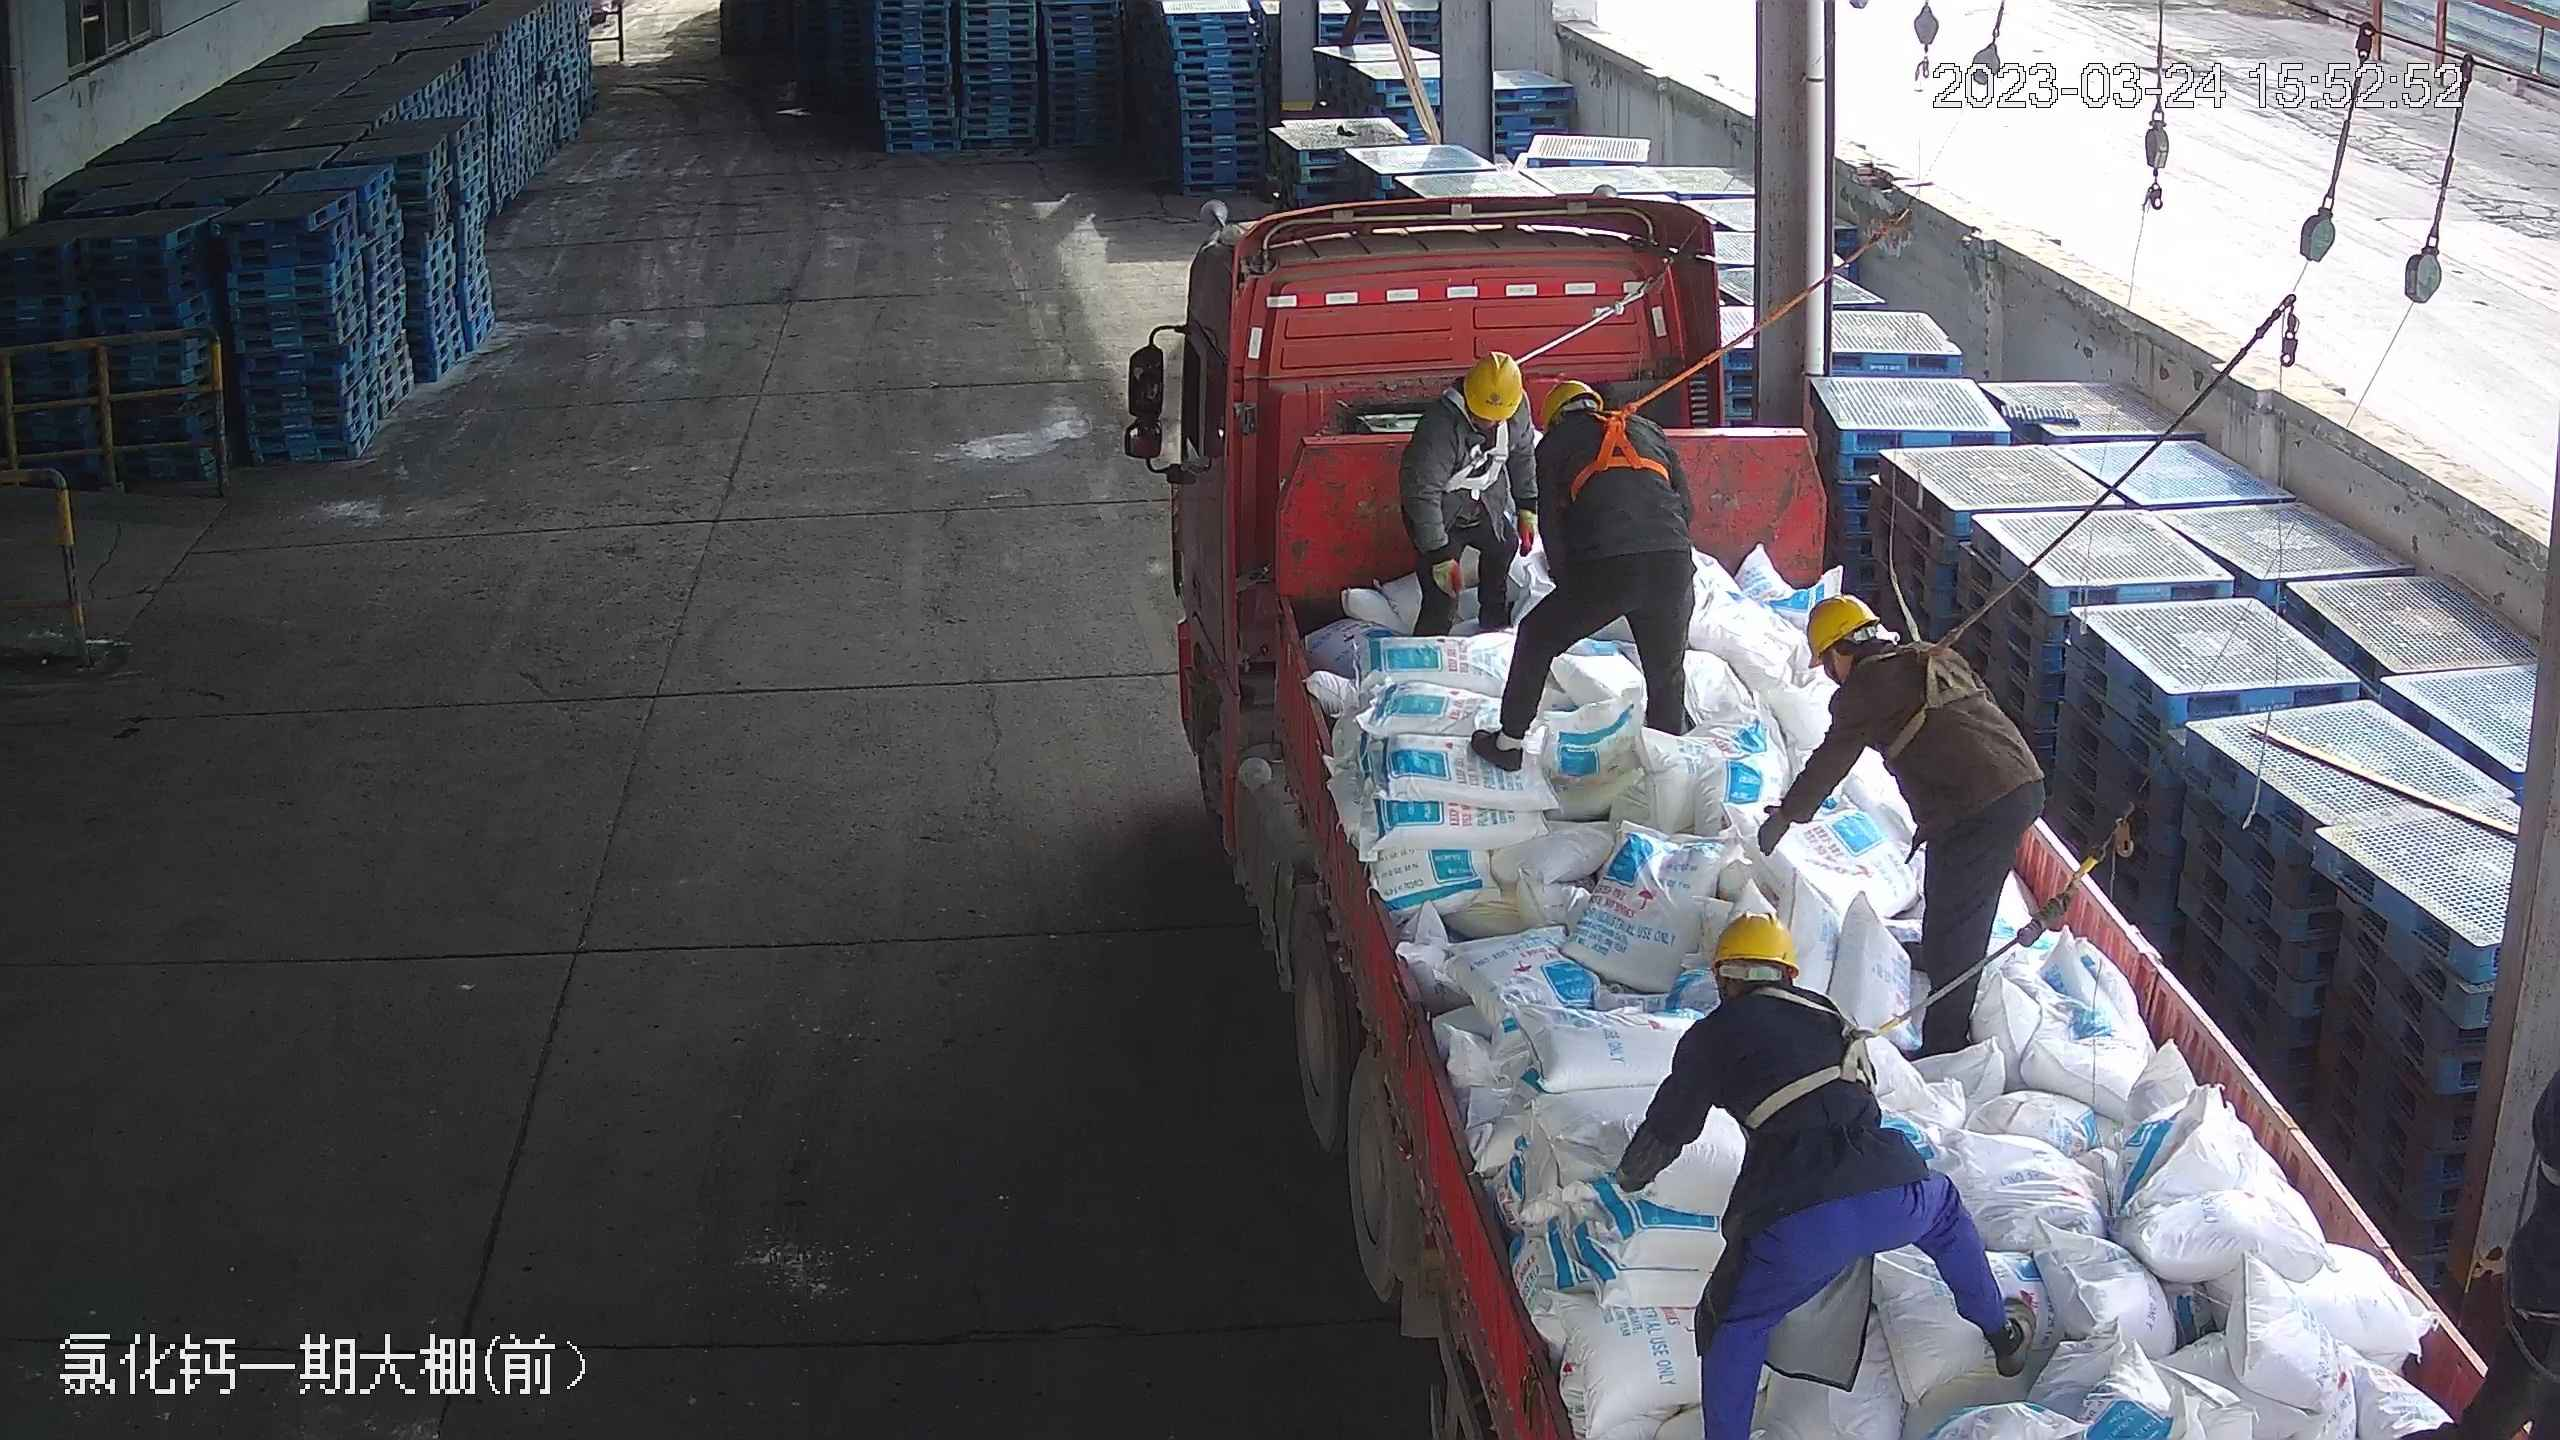belt: (1737, 979, 1899, 1124), (1872, 625, 1987, 757), (1567, 396, 1669, 484), (1440, 402, 1513, 479)
head: (1675, 909, 1853, 1070), (1804, 594, 1949, 736), (1524, 368, 1666, 468), (1415, 352, 1536, 464)
helmet: (1705, 910, 1796, 974), (1803, 593, 1877, 662), (1460, 351, 1528, 421), (1540, 372, 1600, 430)
people: (1605, 904, 2027, 1427), (1751, 592, 2034, 1056), (1474, 372, 1700, 766), (2450, 978, 2560, 1436), (1397, 352, 1545, 647)
truck: (1102, 171, 2560, 1439)
